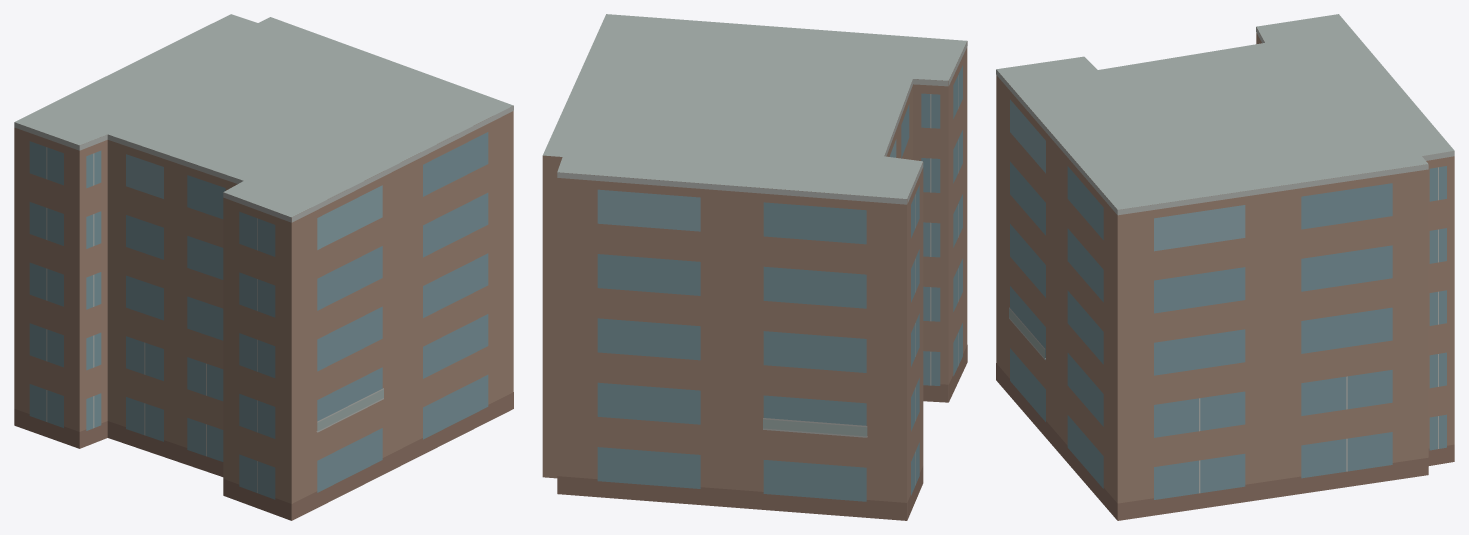
Rendered from survey-upis-32760306.glb.
3 views of the same model, side by side, from view 1: azimuth 30°, elevation 25°; view 2: azimuth 150°, elevation 25°; view 3: azimuth 270°, elevation 25° (orthographic). The views are drawn at different scales.
Visible parts, largest first — view 1: survey-upis-32760306.tmp; view 2: survey-upis-32760306.tmp; view 3: survey-upis-32760306.tmp.
Part boxes in pixels (x1=…): survey-upis-32760306.tmp: x1=14, y1=14, x2=513, y2=520; survey-upis-32760306.tmp: x1=542, y1=14, x2=967, y2=520; survey-upis-32760306.tmp: x1=996, y1=14, x2=1454, y2=520.
Size of the model in its own units: 18.92 by 14 by 18.72.
